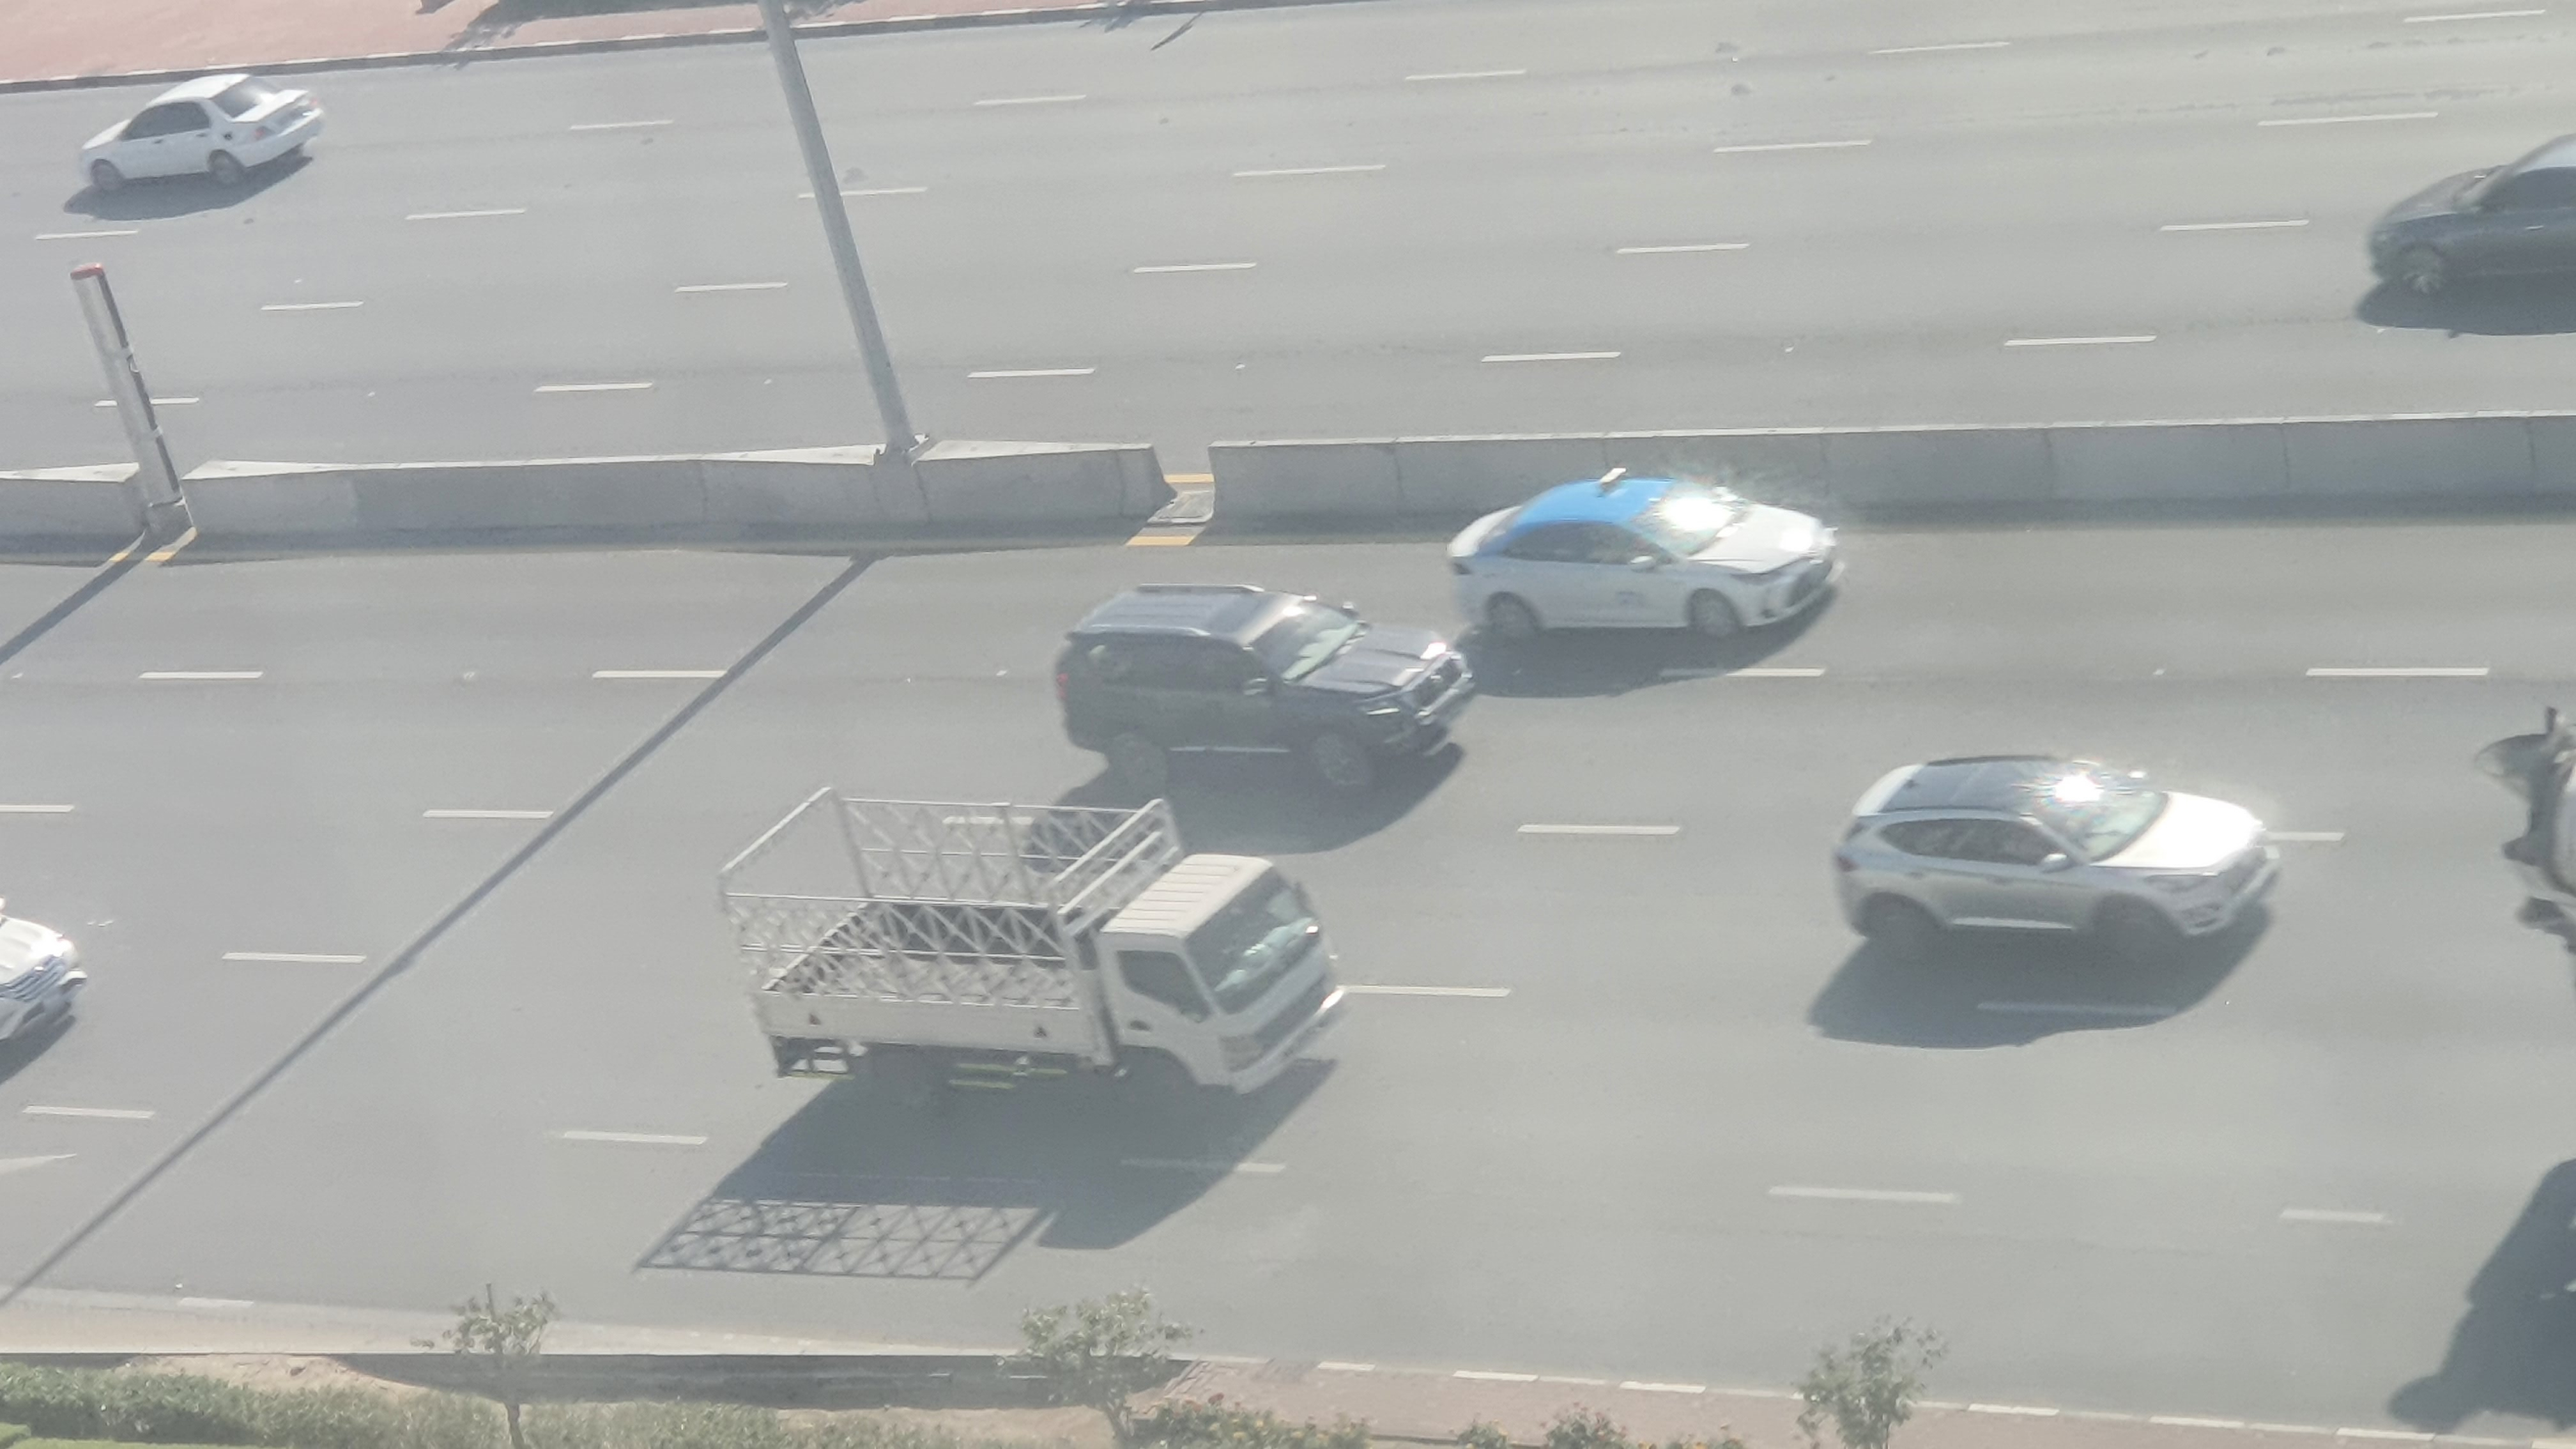NotSunroof: (1438, 474, 1847, 649)
Sunroof: (1824, 738, 2284, 971), (1040, 580, 1474, 803)
